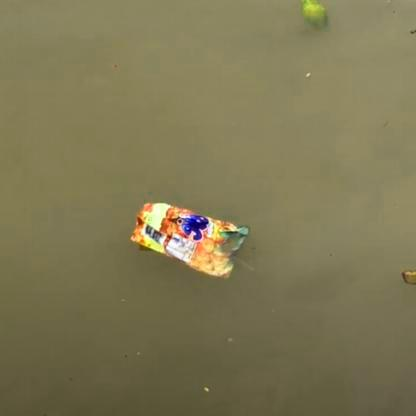Trash: (128, 199, 253, 280)
